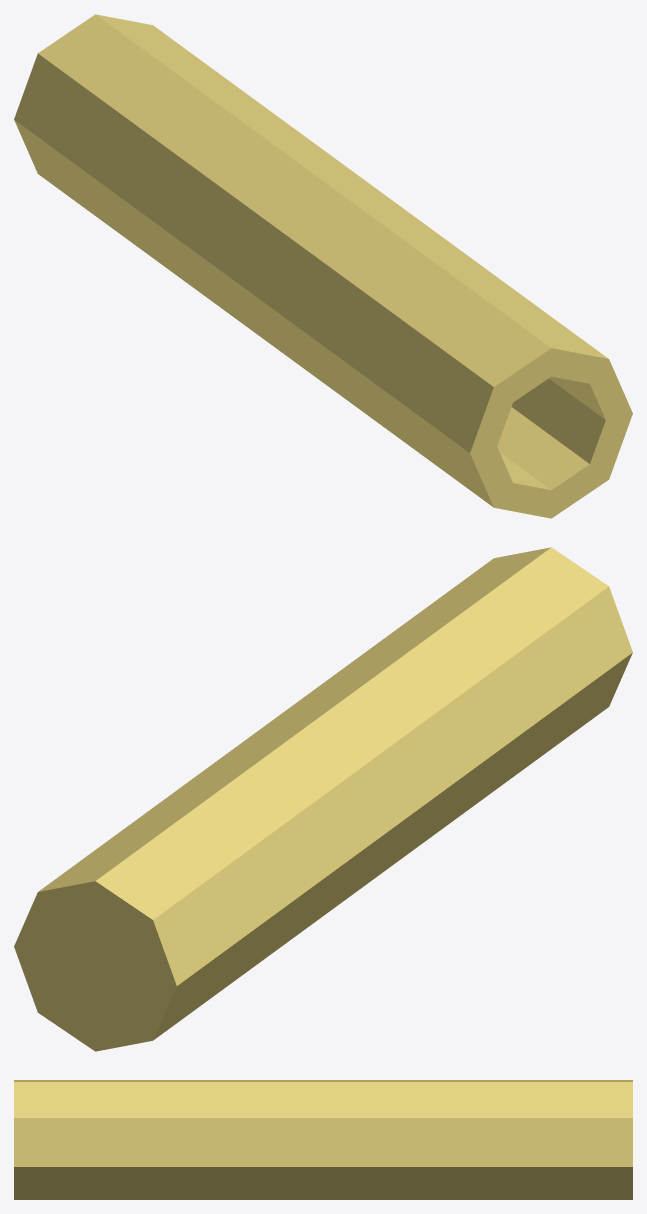
The model's file is contact-m12-socket.glb.
3 views of the same model, one above another, from view 1: azimuth 30°, elevation 25°; view 2: azimuth 150°, elevation 25°; view 3: azimuth 270°, elevation 25° (orthographic). The views are drawn at different scales.
Visible parts, largest first — view 1: self; view 2: self; view 3: self.
Part boxes in pixels (box(x1,y1,x2,y2)): self: box(14, 14, 632, 518); self: box(14, 547, 632, 1051); self: box(14, 1080, 632, 1199).
Size of what is drawn, in the model's own units: 0.00165 by 0.00165 by 0.008.
